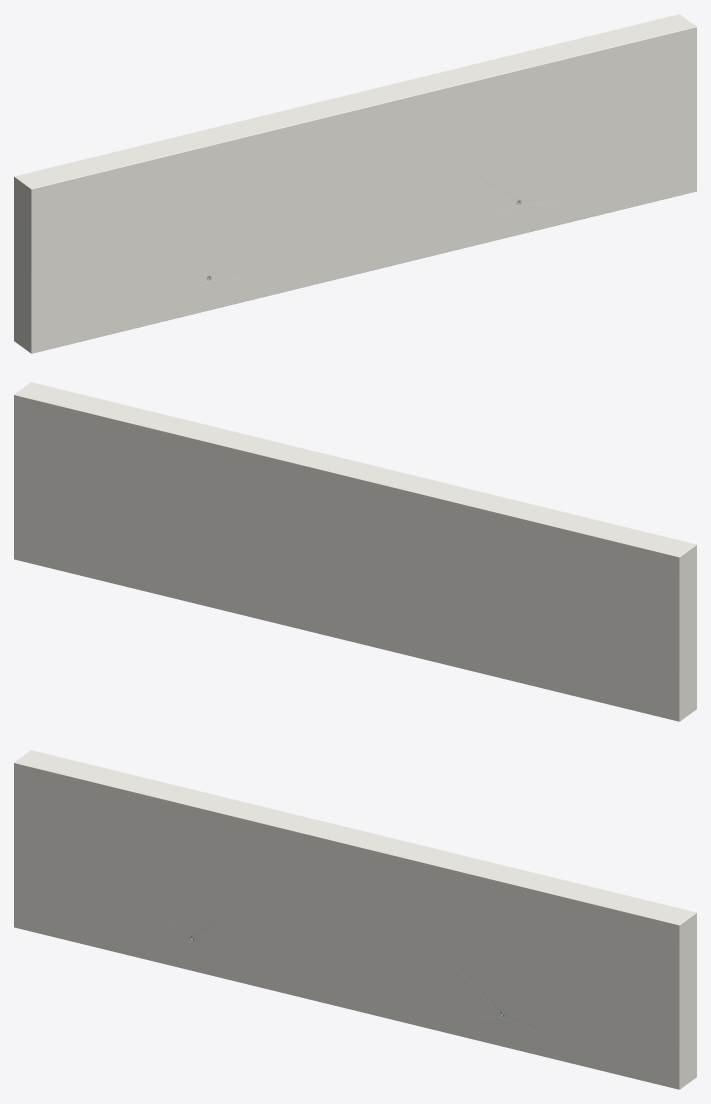
Rendered from 01 - LACK Wall shelf - white 110x26 cm.glb.
3 views of the same model, one above another, from view 1: azimuth 30°, elevation 25°; view 2: azimuth 150°, elevation 25°; view 3: azimuth 330°, elevation 25° (orthographic).
Visible parts, largest first — view 1: 90282180-LACK001; view 2: 90282180-LACK001; view 3: 90282180-LACK001.
Part boxes in pixels (box(x1,y1,x2,y2)): 90282180-LACK001: box(14, 14, 696, 353); 90282180-LACK001: box(14, 382, 696, 721); 90282180-LACK001: box(14, 750, 696, 1089).
Size of the model in its own units: 1.1 by 0.26 by 0.05.
Materials: 1 (1 with a texture image).
